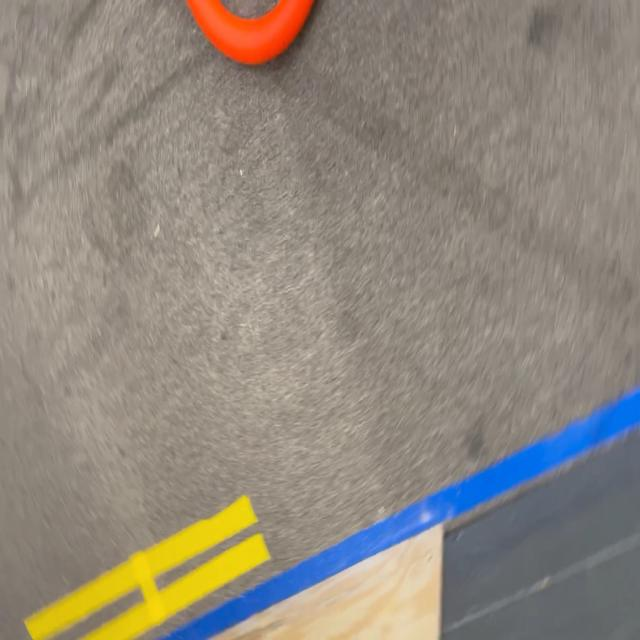note: (184, 0, 318, 64)
